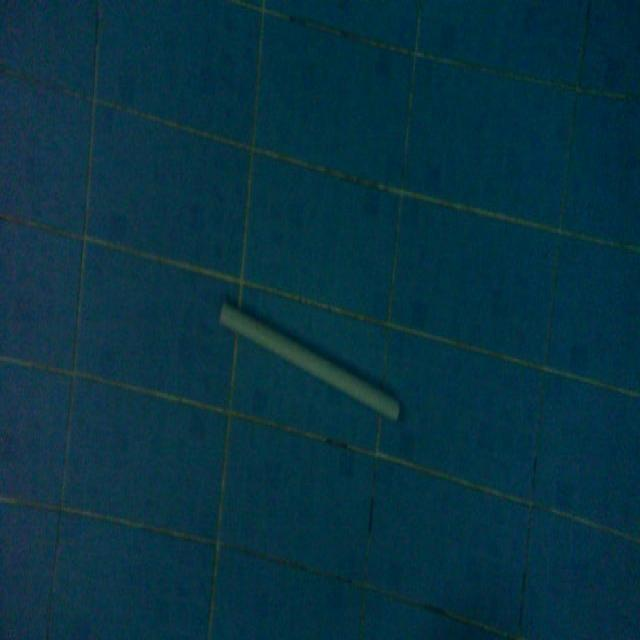Cube: (217, 293, 402, 427)
